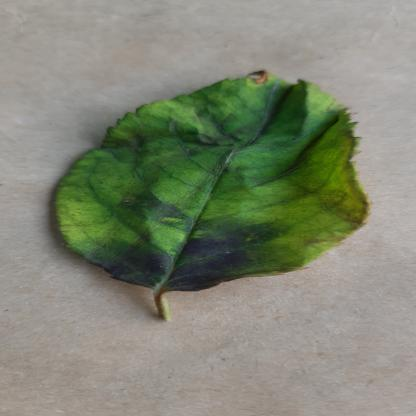downy-mildew: (51, 70, 378, 292)
